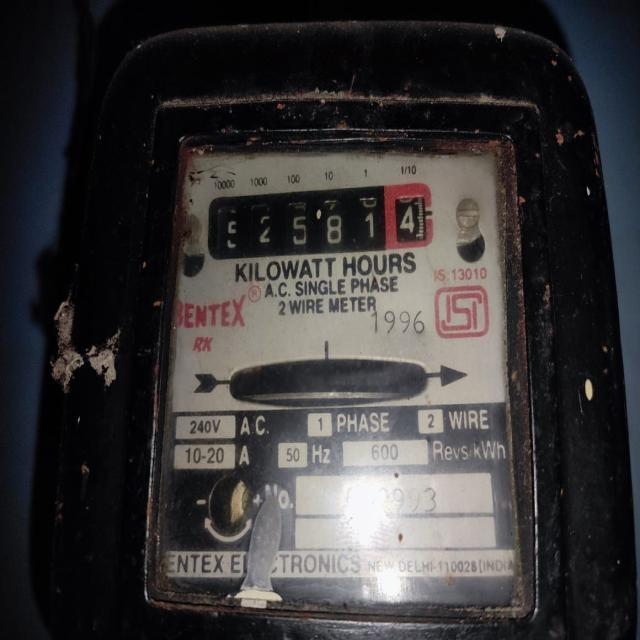display: (213, 196, 427, 266)
